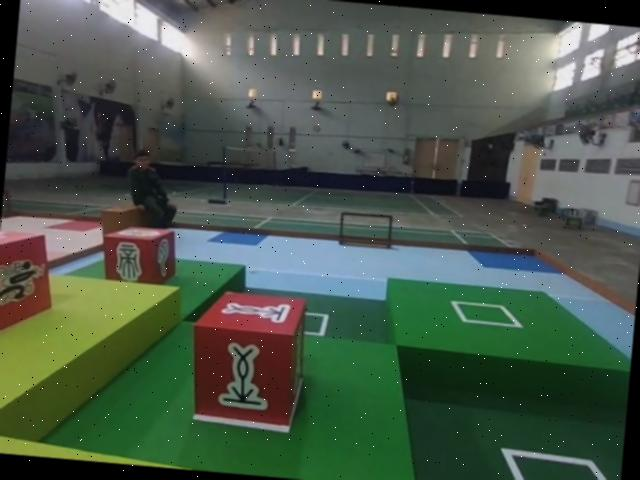R1: (0, 227, 55, 349)
R2 Fake: (99, 221, 182, 290)
R2 Real: (183, 287, 311, 429)
